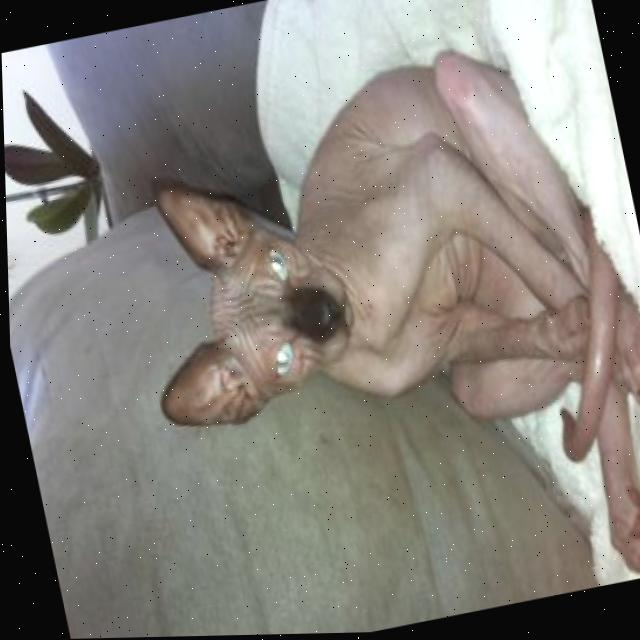Sphynx: (93, 15, 640, 638)
